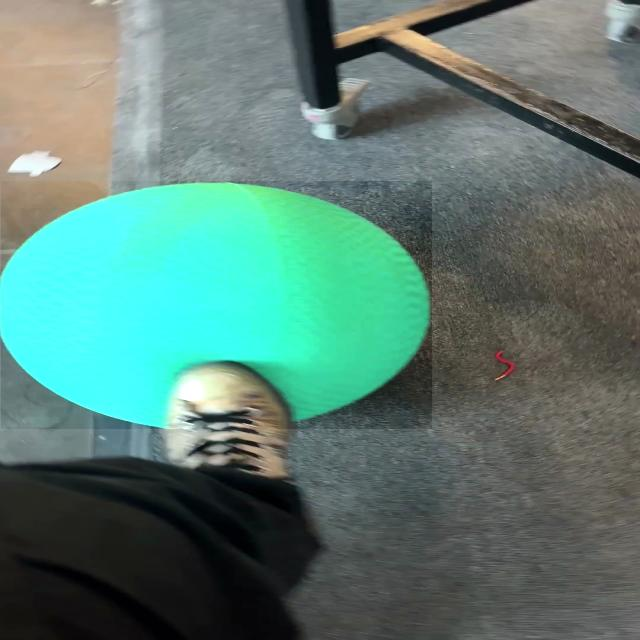Algae: (1, 181, 432, 429)
